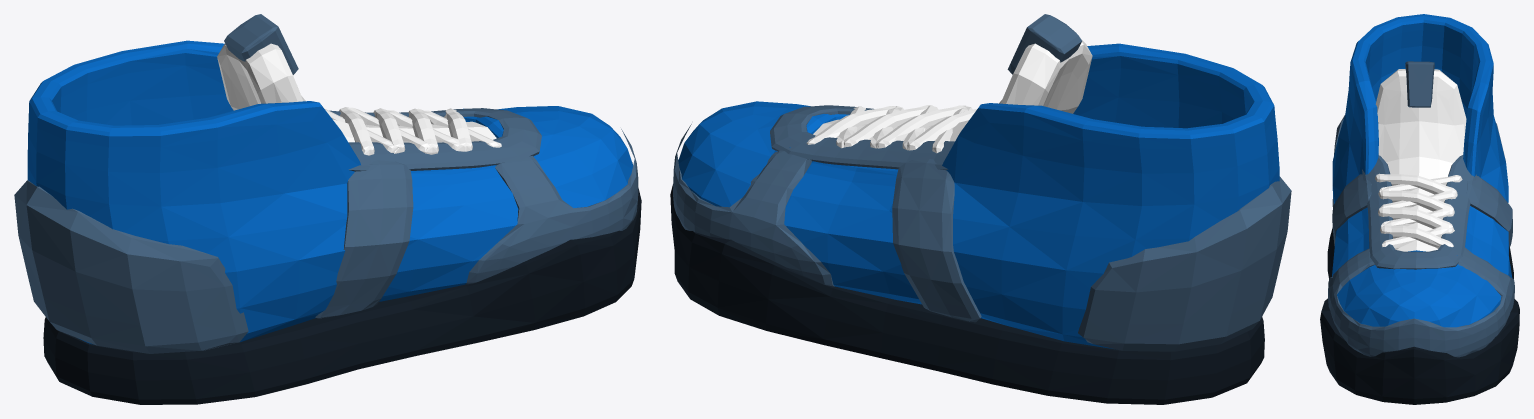
Rendered from LeftJumpShoe.glb.
3 views of the same model, side by side, from view 1: azimuth 30°, elevation 25°; view 2: azimuth 150°, elevation 25°; view 3: azimuth 270°, elevation 25° (orthographic). The views are drawn at different scales.
Visible parts, largest first — view 1: Shoes; view 2: Shoes; view 3: Shoes.
Boxes of the visible parts, box(x1,y1,x2,y2) form: Shoes: box(14, 14, 641, 404); Shoes: box(670, 14, 1291, 404); Shoes: box(1320, 14, 1519, 404).
Bounding box in the file's own units: 27.12 × 13.34 × 10.93.
Materials: 1 (1 with a texture image).
